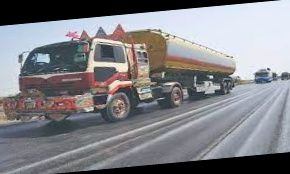truck: (13, 20, 240, 131), (252, 68, 276, 85)
